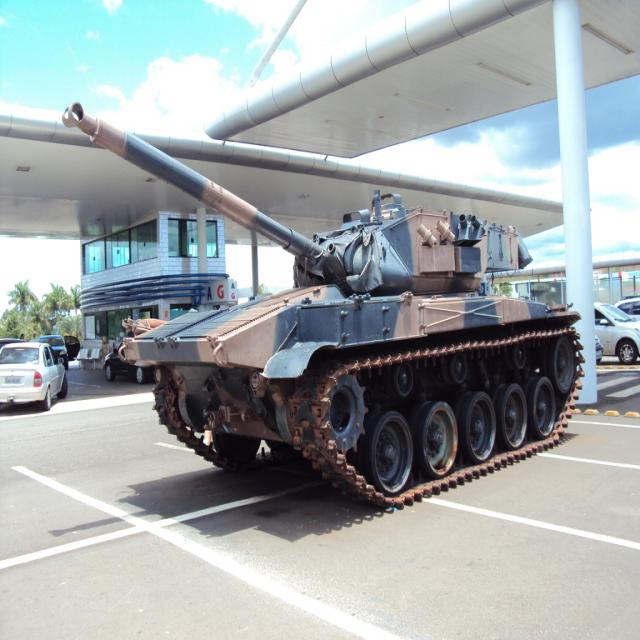tank: (60, 101, 588, 506)
